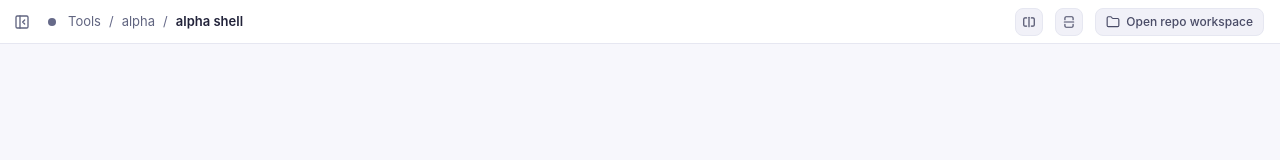
Test: TerminalHeader › Escape cancels a rename without committing
Click the button "alpha shell".
click(209, 22)  # box [176,12,243,31]
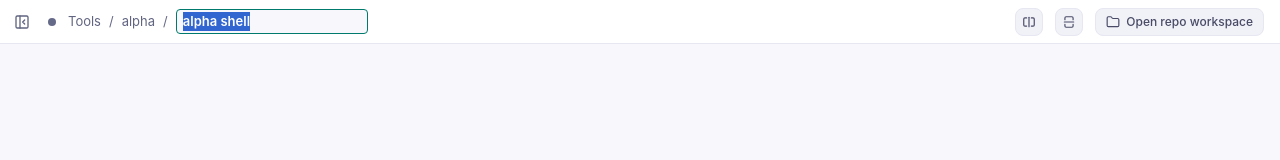
Replace the text in the field named "Rename terminal" with "nope" at (272,22), box [176,9,368,34]
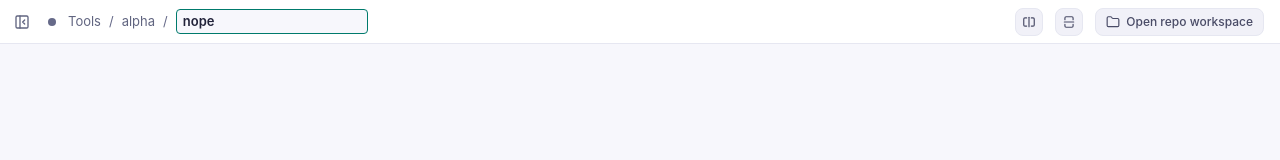
Press Escape in the field named "Rename terminal", box [176,9,368,34]
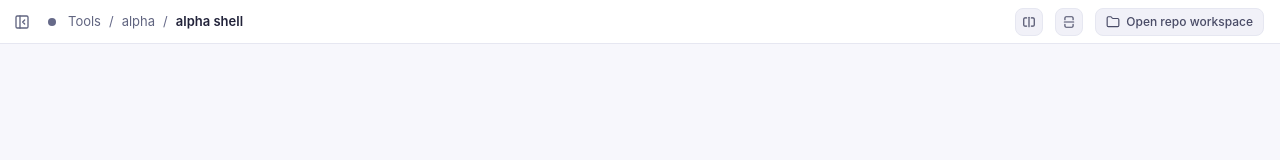
Now the button "alpha shell" is shown, box [176,12,243,31]
